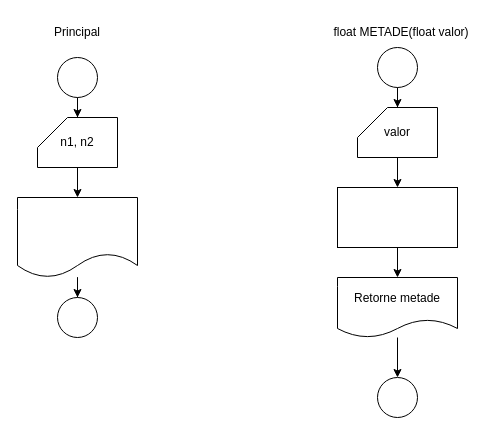
Image size: 489x435. Some labels were removed from this diagram. The shapes that lost their labels are listed below. From the top down, each one's centre as x and y in pixels, then its label:
[77,237]: METADE(n1) METADE(n2)
[397,217]: metade = valor/2
